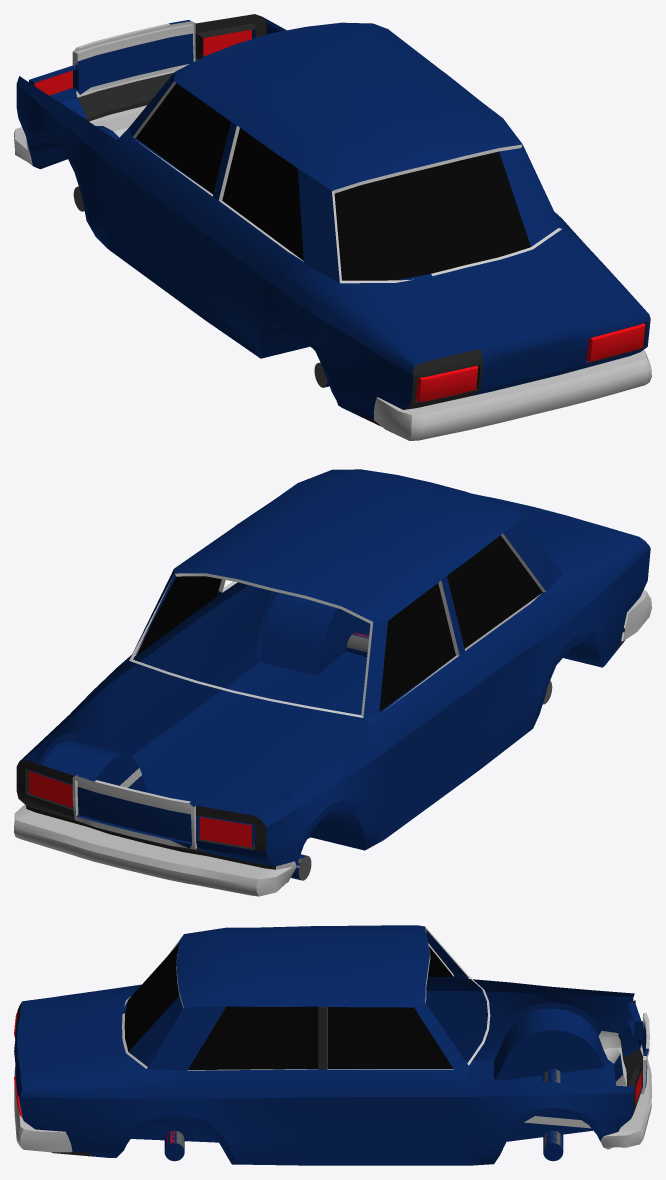
Rendered from carro_cuerpo.obj.
The picture shows the model from 3 angles, top to bottom: view 1: azimuth 30°, elevation 25°; view 2: azimuth 150°, elevation 25°; view 3: azimuth 270°, elevation 25°; orthographic projection. The views are drawn at different scales.
Parts seen in each view (by area): view 1: 2107.002_Material.003, 2107.002_Window, 2107.002_Material.006, 2107.002_CarPaint, 2107.002_Material.005, 2107.002_Material.007; view 2: 2107.002_Material.003, 2107.002_Window, 2107.002_Material.007, 2107.002_Material.006, 2107.002_CarPaint, 2107.002_Material.005, 2107.002_Rims; view 3: 2107.002_Material.003, 2107.002_Window, 2107.002_Material.006, 2107.002_Material.007, 2107.002_CarPaint, 2107.002_Rims.
Boxes of the visible parts, x1,y1,x2,y2 form: 2107.002_Material.003: [16, 17, 650, 419]; 2107.002_Window: [136, 83, 530, 280]; 2107.002_Material.006: [72, 21, 651, 440]; 2107.002_CarPaint: [77, 14, 646, 426]; 2107.002_Material.005: [34, 29, 645, 401]; 2107.002_Material.007: [14, 20, 195, 165]; 2107.002_Material.003: [19, 469, 650, 880]; 2107.002_Window: [136, 535, 542, 711]; 2107.002_Material.007: [14, 768, 299, 896]; 2107.002_Material.006: [72, 533, 651, 849]; 2107.002_CarPaint: [16, 579, 625, 869]; 2107.002_Material.005: [29, 632, 369, 847]; 2107.002_Rims: [298, 634, 552, 880]; 2107.002_Material.003: [14, 925, 648, 1165]; 2107.002_Window: [124, 942, 453, 1069]; 2107.002_Material.006: [14, 927, 649, 1152]; 2107.002_Material.007: [524, 1024, 651, 1149]; 2107.002_CarPaint: [15, 1000, 643, 1156]; 2107.002_Rims: [174, 1069, 561, 1161].
Size of the model in its own units: 1.64 by 1.17 by 4.07.
